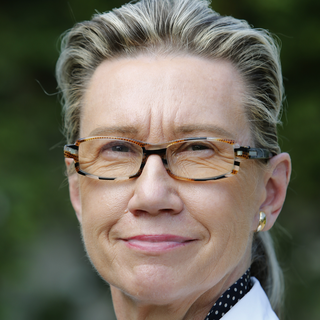eye: (92, 133, 145, 163), (175, 131, 219, 163)
